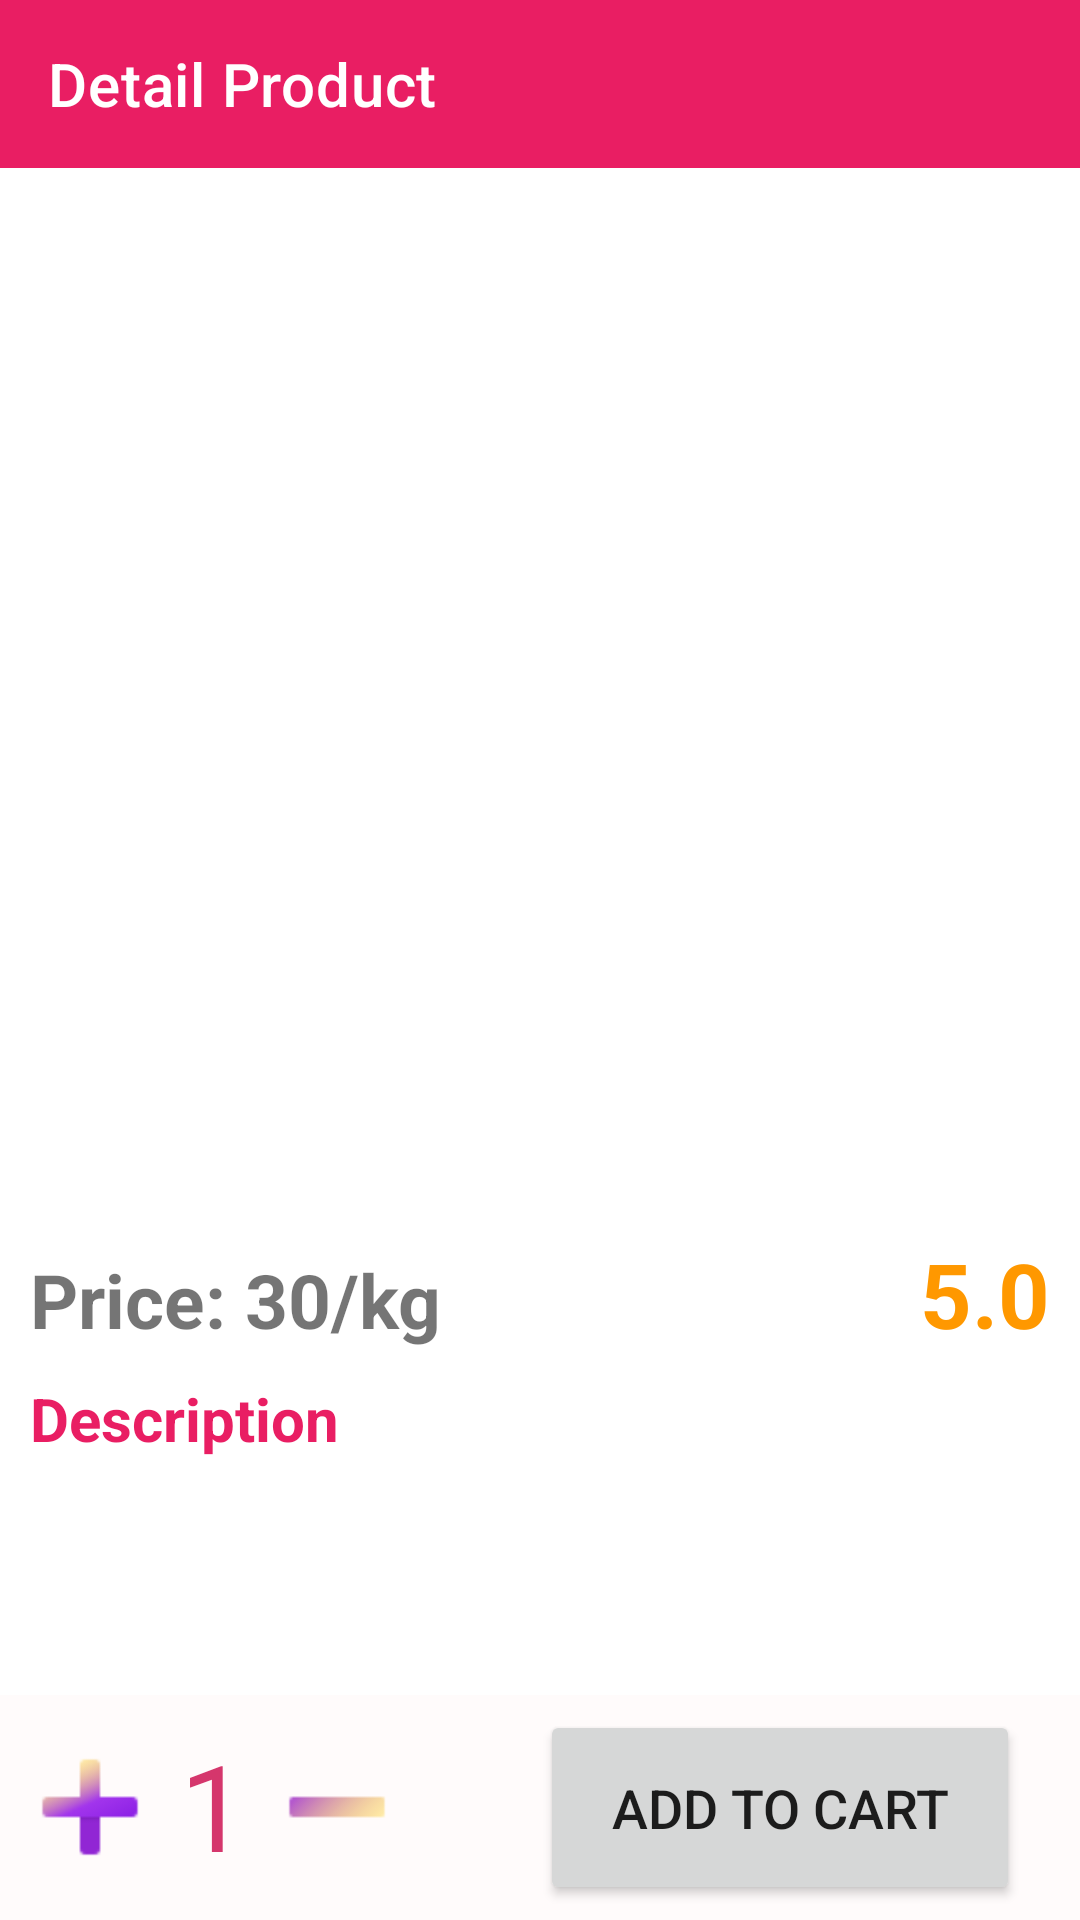

Named icons in this screenshot (1080×1920) and their bounding boxes, bbox(x1, y1, x2, y2):
add: bbox(42, 1759, 138, 1855)
remove: bbox(289, 1796, 385, 1818)
